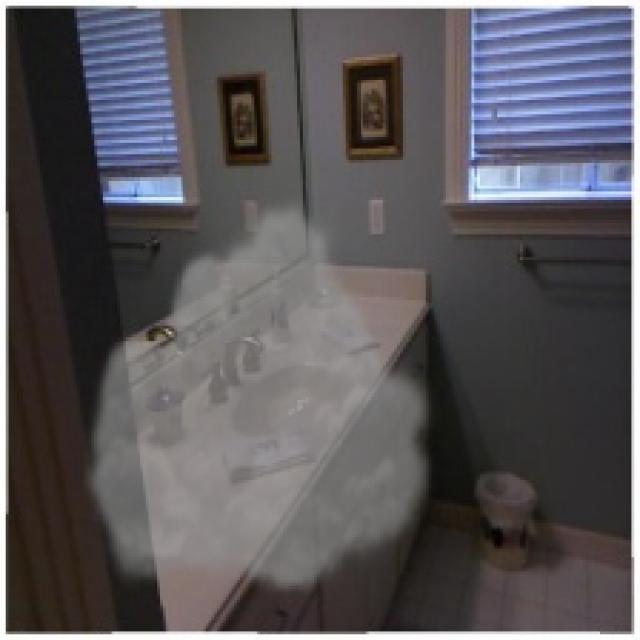smoke: (80, 192, 443, 597)
